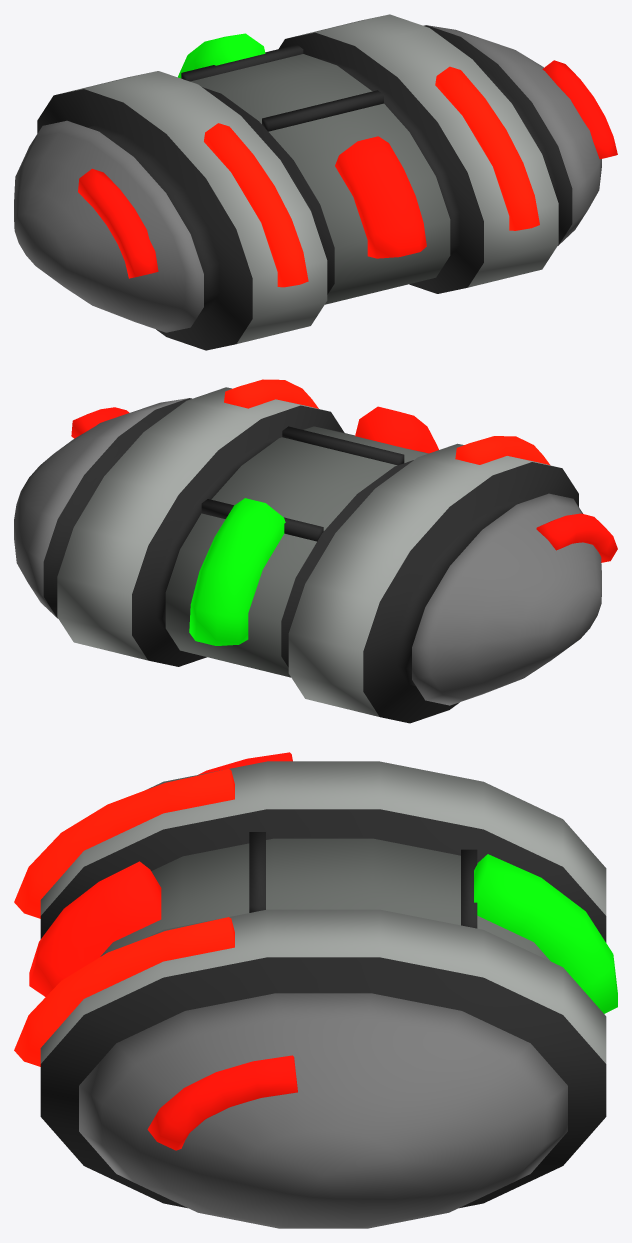
Rendered from tyrian10-203.glb.
3 renders of one model, top to bottom at view 1: azimuth 30°, elevation 25°; view 2: azimuth 150°, elevation 25°; view 3: azimuth 270°, elevation 25°, orthographic. The views are drawn at different scales.
Parts seen in each view (by area): view 1: tyrian10-203, tyrian10-203_lights; view 2: tyrian10-203, tyrian10-203_lights; view 3: tyrian10-203, tyrian10-203_lights.
Boxes of the visible parts, x1,y1,x2,y2 form: tyrian10-203: [14, 14, 601, 350]; tyrian10-203_lights: [78, 33, 617, 287]; tyrian10-203: [14, 387, 601, 723]; tyrian10-203_lights: [71, 379, 617, 645]; tyrian10-203: [40, 761, 606, 1228]; tyrian10-203_lights: [14, 752, 617, 1150].
Size of the model in its own units: 1.78 by 0.6678 by 1.29.
